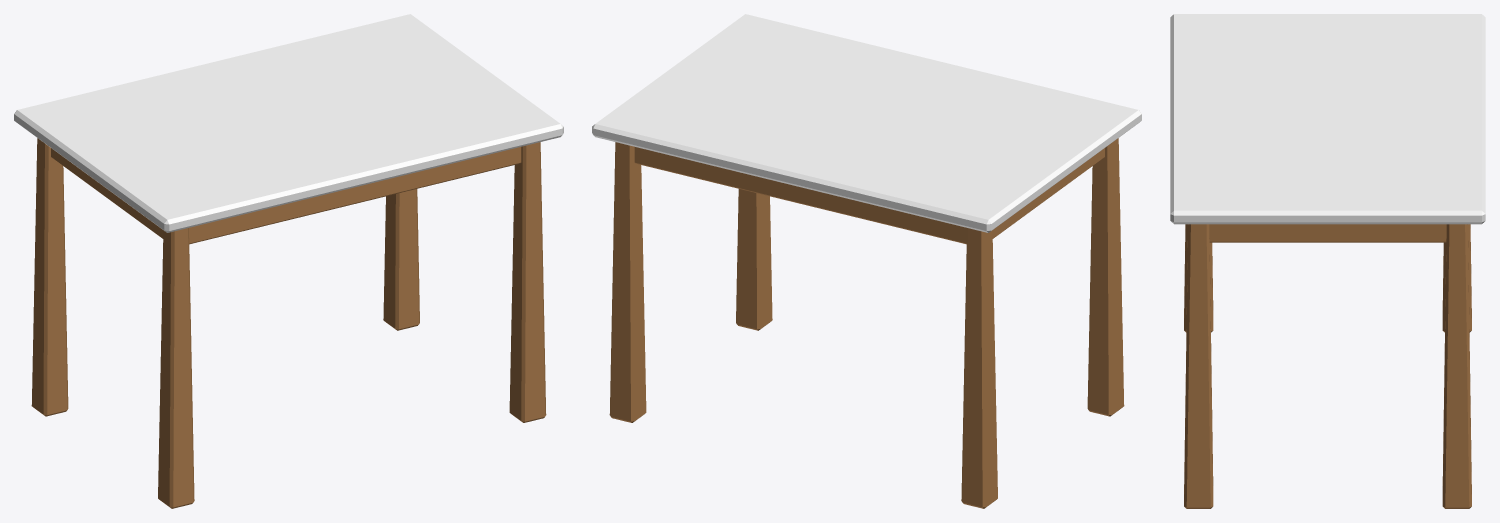
File: display-table-retail.glb
3 views of the same model, side by side, from view 1: azimuth 30°, elevation 25°; view 2: azimuth 150°, elevation 25°; view 3: azimuth 270°, elevation 25° (orthographic). The views are drawn at different scales.
Visible parts, largest first — view 1: display-table-retail.tint, display-table-retail.wood; view 2: display-table-retail.tint, display-table-retail.wood; view 3: display-table-retail.tint, display-table-retail.wood.
Part boxes in pixels (bbox=[...]): display-table-retail.tint: bbox=[14, 14, 563, 232]; display-table-retail.wood: bbox=[31, 138, 546, 508]; display-table-retail.tint: bbox=[592, 14, 1141, 232]; display-table-retail.wood: bbox=[609, 138, 1124, 508]; display-table-retail.tint: bbox=[1170, 14, 1485, 224]; display-table-retail.wood: bbox=[1184, 224, 1471, 508].
Size of the model in its own units: 1.2 by 0.85 by 0.8.
